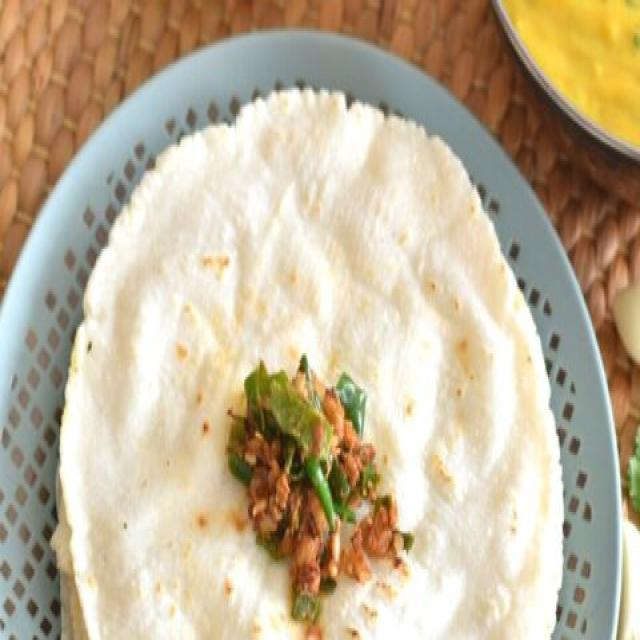RICE BHAKRI: (62, 97, 565, 638)
